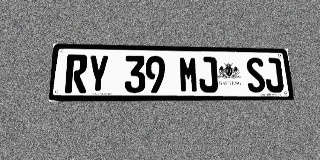3: (125, 55, 145, 93)
9: (146, 56, 166, 93)
J: (198, 57, 218, 93), (263, 58, 284, 92)
M: (179, 56, 199, 93)
R: (65, 54, 88, 93)
S: (245, 57, 266, 92)
Y: (87, 55, 109, 93)
